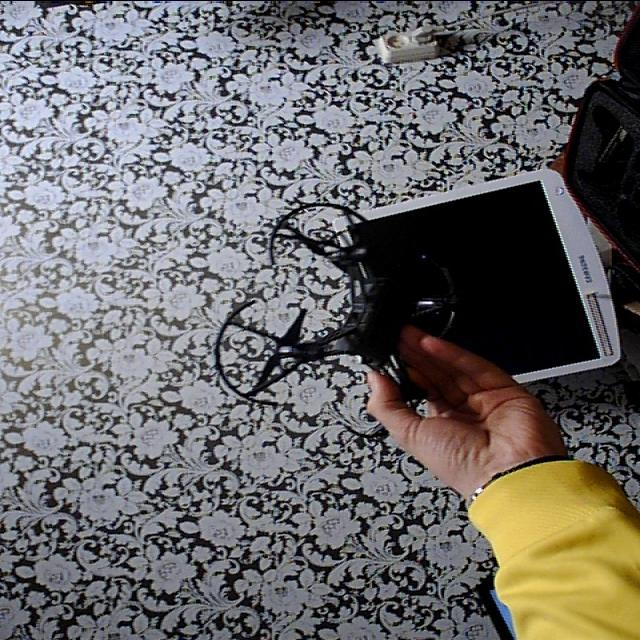drone: (204, 197, 480, 419)
